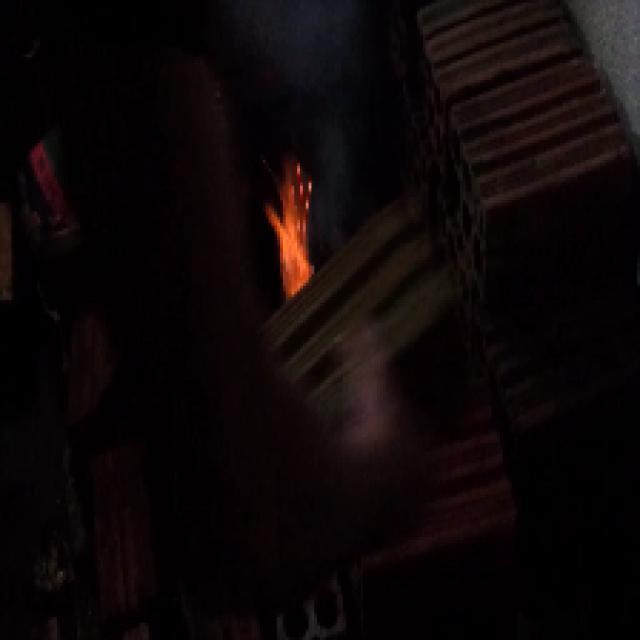Fire: (272, 164, 322, 295)
